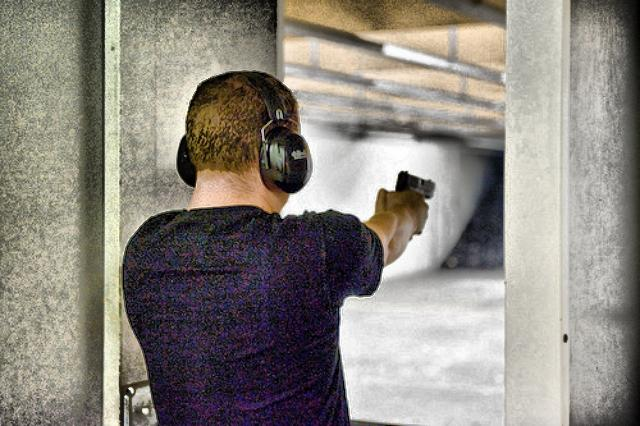pistol: (393, 169, 433, 209)
